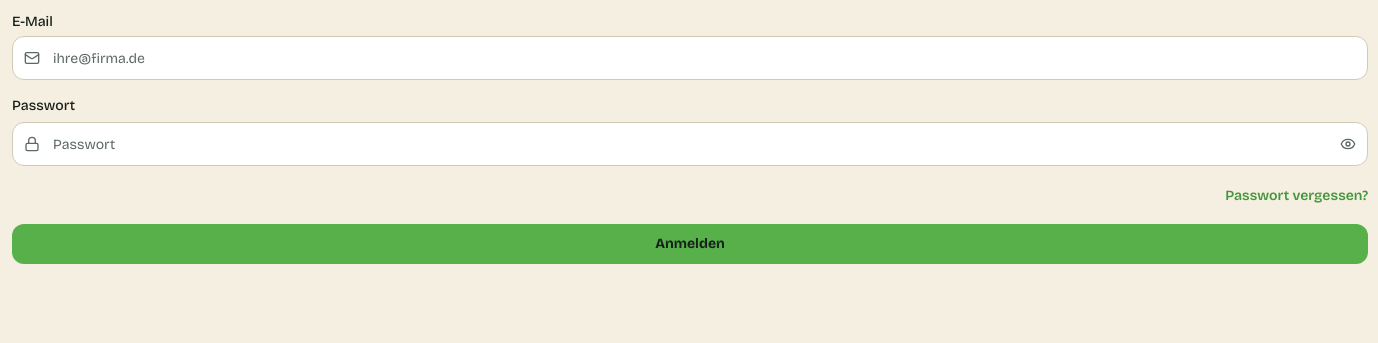
Test: LoginForm › surfaces the rate-limit message verbatim on 429
The width and height of the screenshot is (1378, 343).
In the field with placeholder "ihre@firma.de": (690, 58) [12, 36, 1368, 80], type "x@y.de"
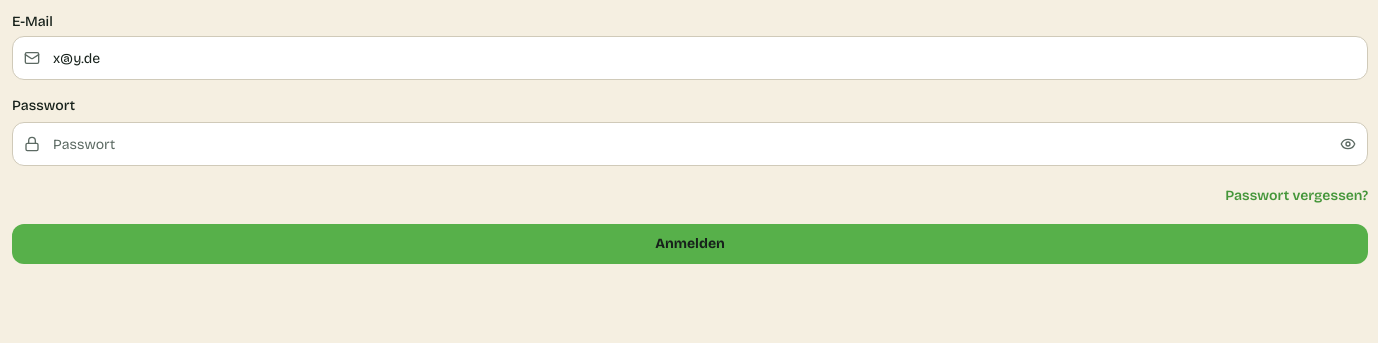
In the password field with placeholder "Passwort": (690, 144) [12, 122, 1368, 166], type "pw"
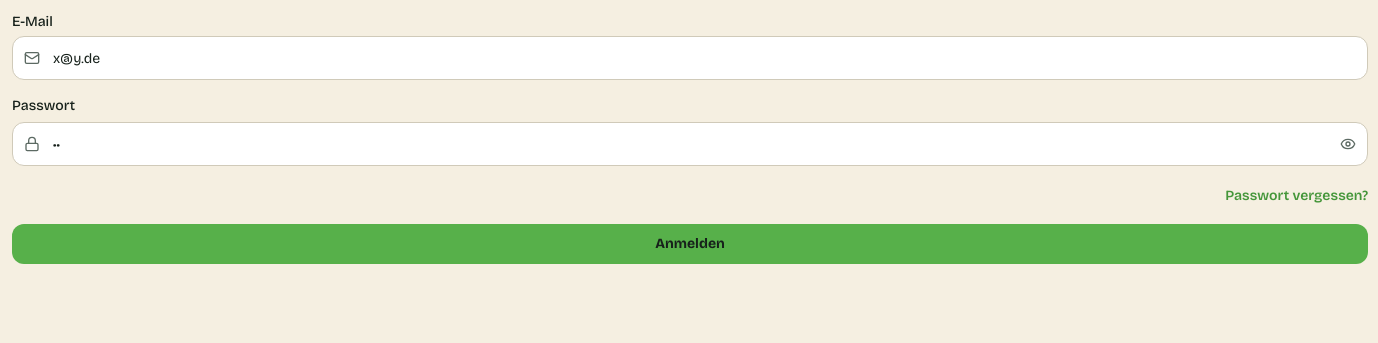
Click the button "Anmelden": (690, 244) [12, 224, 1368, 264]
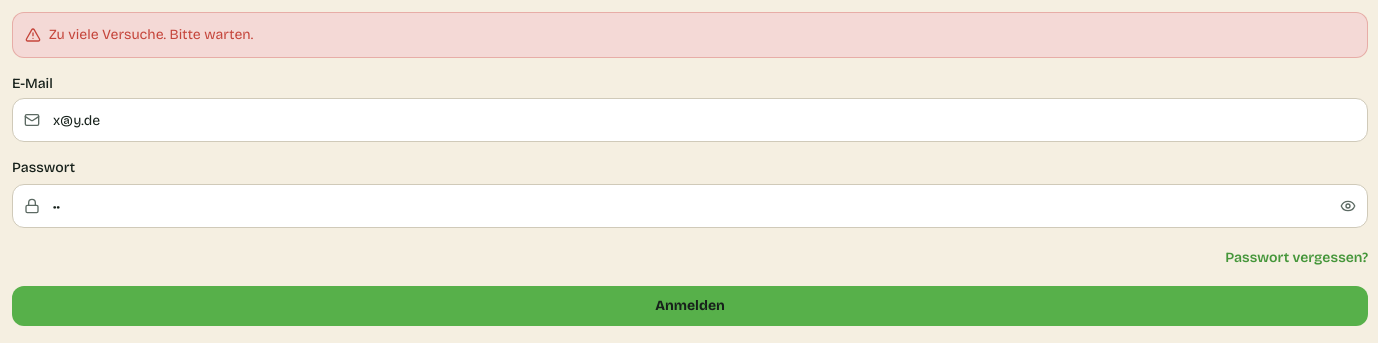
Expected: the text "Zu viele Versuche. Bitte warten." is shown, [49, 25, 253, 45]
